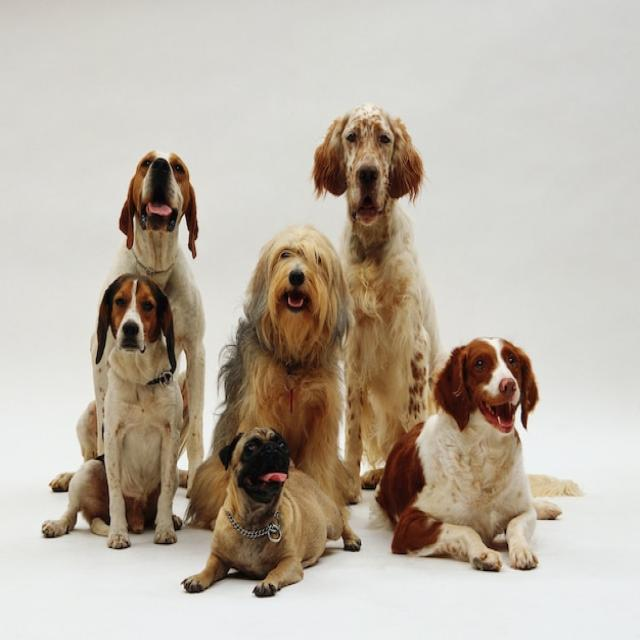Dog: (50, 149, 208, 495), (312, 102, 443, 495), (193, 224, 355, 526), (371, 334, 562, 572), (41, 273, 188, 551), (182, 428, 364, 596)
